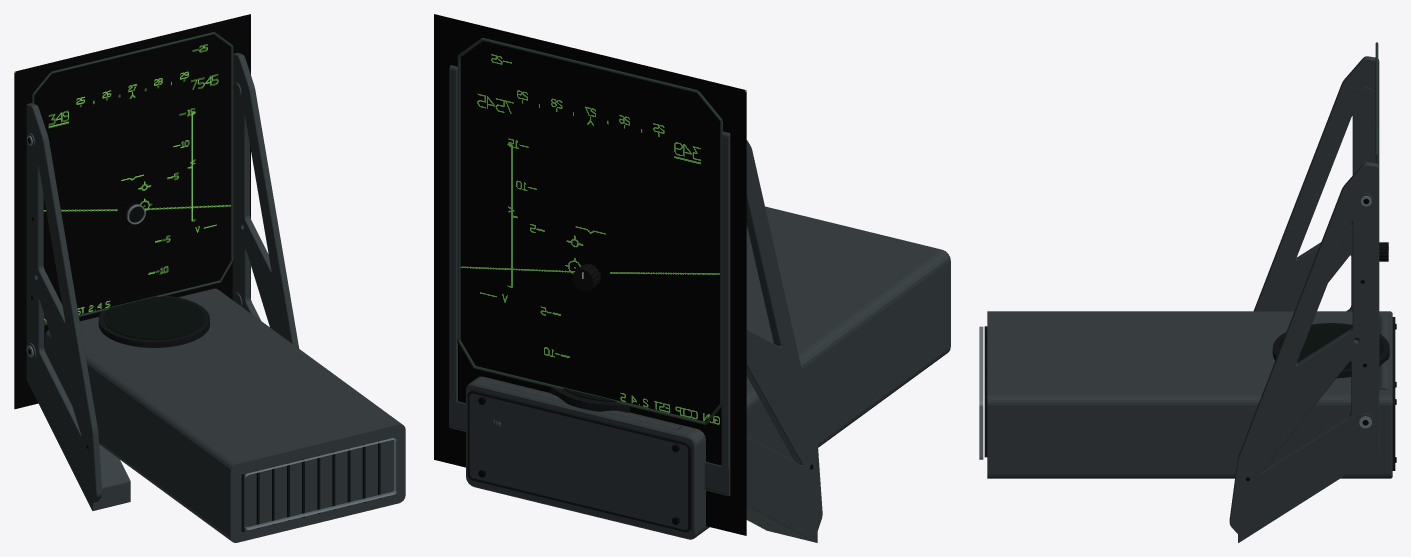
The model's file is MFDStudio.obj.
3 views of the same model, side by side, from view 1: azimuth 30°, elevation 25°; view 2: azimuth 150°, elevation 25°; view 3: azimuth 270°, elevation 25° (orthographic). The views are drawn at different scales.
Visible parts, largest first — view 1: MFDStudioBody, MFDStudioScreen, MFDStudioCombinerFrame; view 2: MFDStudioScreen, MFDStudioBody, MFDStudioCombinerFrame; view 3: MFDStudioBody, MFDStudioCombinerFrame.
Boxes of the visible parts, bbox=[...] form: MFDStudioBody: bbox=[45, 288, 405, 542]; MFDStudioScreen: bbox=[14, 14, 250, 409]; MFDStudioCombinerFrame: bbox=[26, 32, 299, 510]; MFDStudioScreen: bbox=[434, 14, 746, 535]; MFDStudioBody: bbox=[466, 206, 950, 539]; MFDStudioCombinerFrame: bbox=[449, 38, 822, 542]; MFDStudioBody: bbox=[979, 311, 1395, 478]; MFDStudioCombinerFrame: bbox=[1229, 42, 1379, 542].
Size of the model in its own units: 0.22 by 0.3501 by 0.3197.
Materials: 11 (1 with a texture image).
